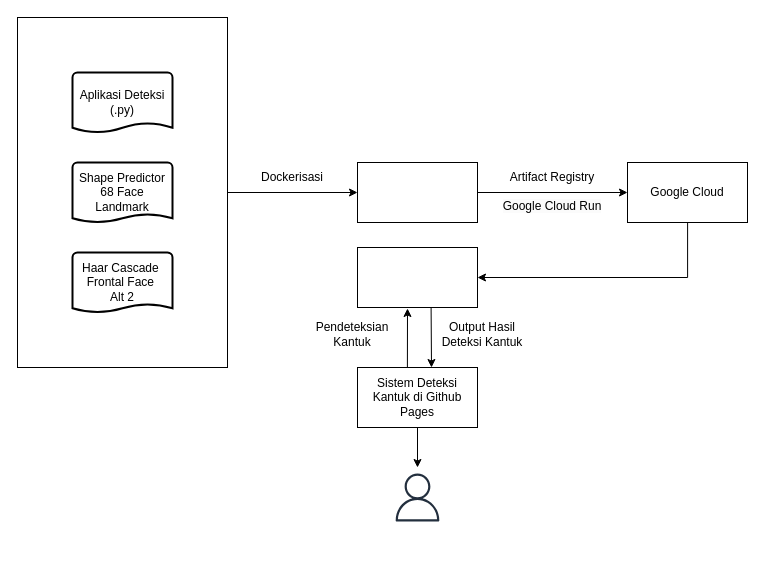
Some shapes in this 765 by 566 pixel diagram are drawn without their labels. The box of each missing label's shape, as (x1, y1, x2, y2) in pixels:
API Deteksi Kantuk: (356, 246, 478, 308)
Docker Image: (356, 162, 478, 222)
User: (386, 466, 448, 528)
